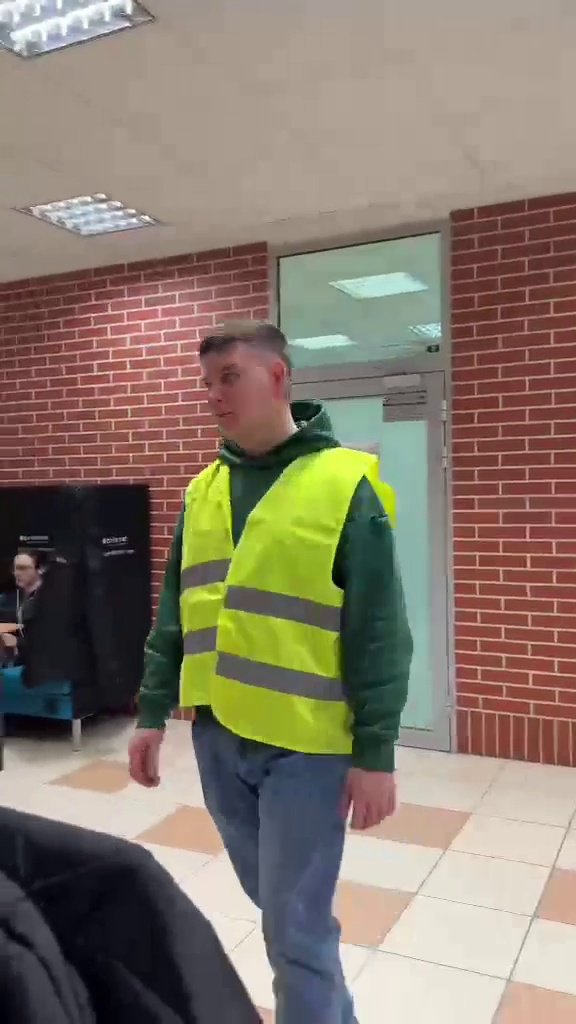vest: (124, 313, 417, 1024)
